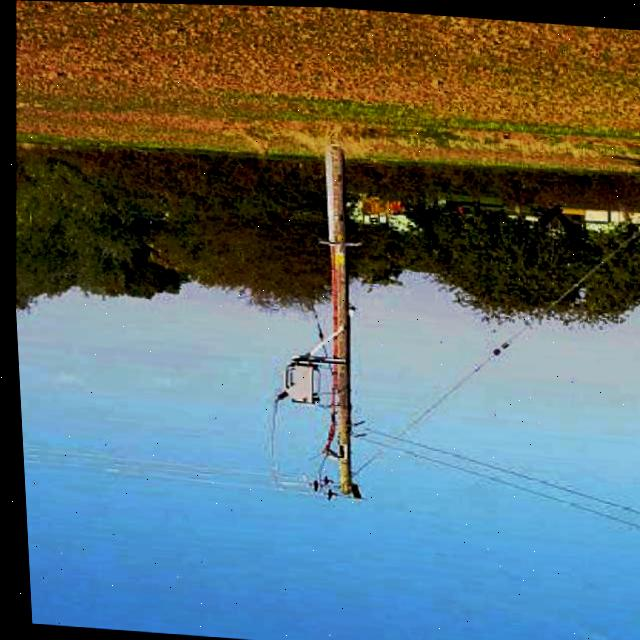poles: (262, 142, 406, 504)
wires: (350, 419, 640, 535), (18, 440, 301, 495)
